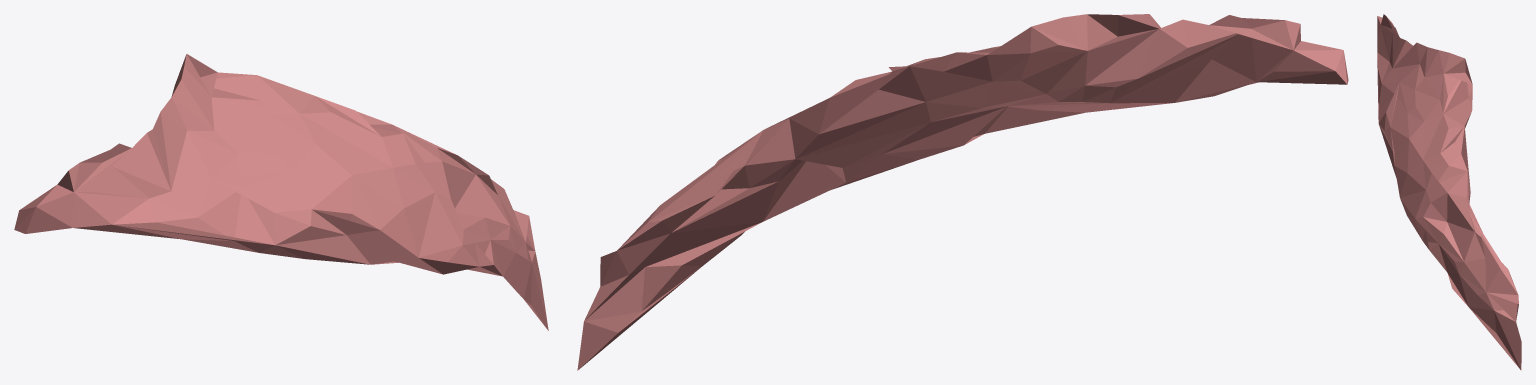
The model's file is Clavicular_head_of_pectoralis_major_muscle.l.glb.
3 views of the same model, side by side, from view 1: azimuth 30°, elevation 25°; view 2: azimuth 150°, elevation 25°; view 3: azimuth 270°, elevation 25° (orthographic). The views are drawn at different scales.
Parts seen in each view (by area): view 1: Clavicular_head_of_pectoralis_major_muscle.l; view 2: Clavicular_head_of_pectoralis_major_muscle.l; view 3: Clavicular_head_of_pectoralis_major_muscle.l.
Boxes of the visible parts, <box> form: Clavicular_head_of_pectoralis_major_muscle.l: <box>14,54,548,330</box>; Clavicular_head_of_pectoralis_major_muscle.l: <box>577,14,1348,370</box>; Clavicular_head_of_pectoralis_major_muscle.l: <box>1377,14,1521,370</box>.
Bounding box in the file's own units: 0.1667 × 0.1008 × 0.0624.
